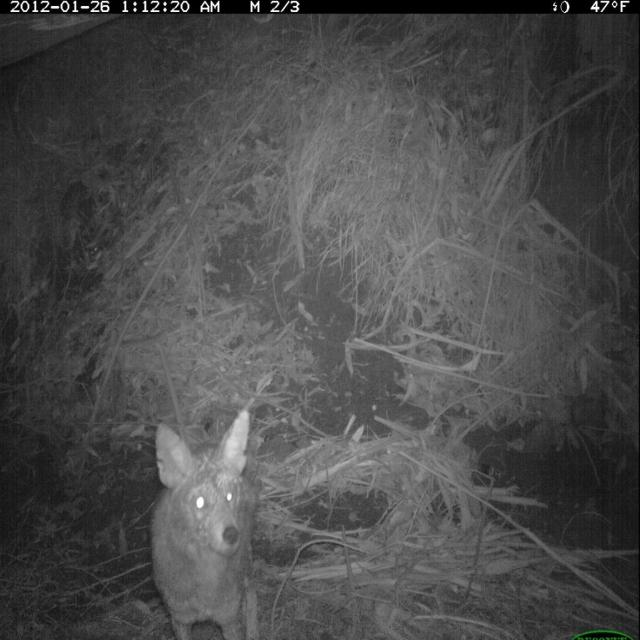coyote: (144, 399, 268, 640)
